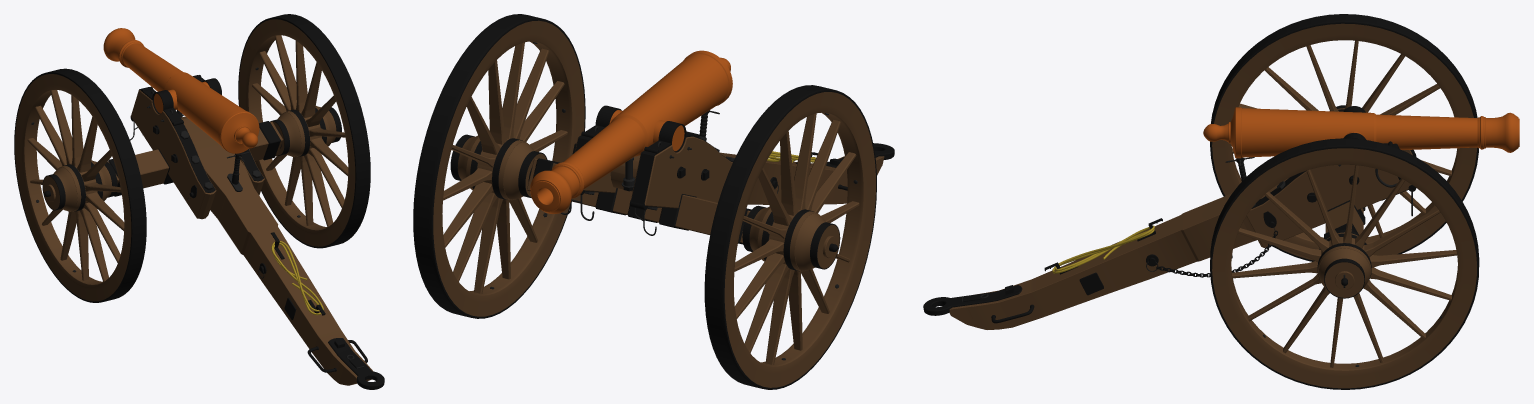
Rendered from 6_Pounder_Brass_Cannon.obj.
The picture shows the model from 3 angles, left to right: view 1: azimuth 30°, elevation 25°; view 2: azimuth 150°, elevation 25°; view 3: azimuth 270°, elevation 25°; orthographic projection. The views are drawn at different scales.
Parts seen in each view (by area): view 1: 6_Pounder_Brass_Cannon_Cube.006; view 2: 6_Pounder_Brass_Cannon_Cube.006; view 3: 6_Pounder_Brass_Cannon_Cube.006.
Boxes of the visible parts, x1,y1,x2,y2 form: 6_Pounder_Brass_Cannon_Cube.006: (14,14,384,389); 6_Pounder_Brass_Cannon_Cube.006: (413,14,894,389); 6_Pounder_Brass_Cannon_Cube.006: (923,14,1519,389).
Size of the model in its own units: 7.13 by 4.96 by 10.95.
